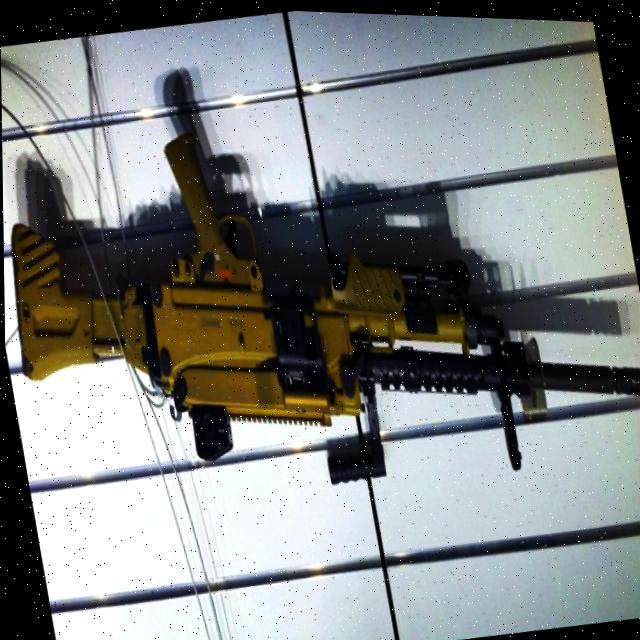firearm: (1, 55, 640, 544)
